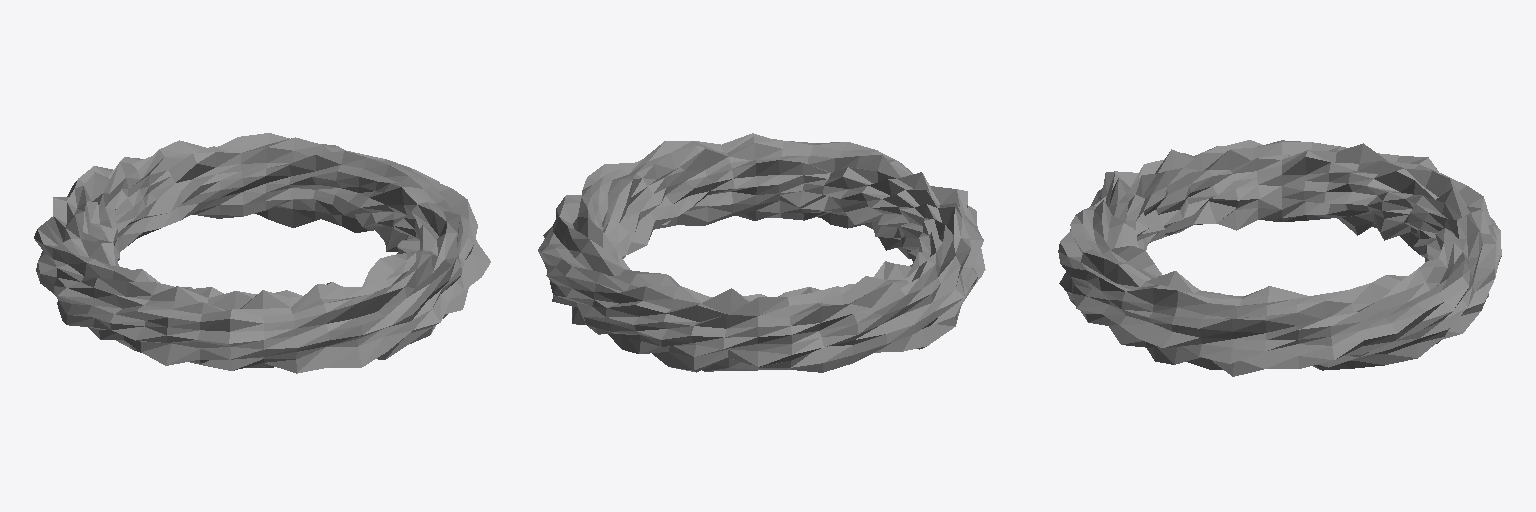
The model's file is Donut_Cloud.obj.
3 renders of one model, left to right at view 1: azimuth 30°, elevation 25°; view 2: azimuth 150°, elevation 25°; view 3: azimuth 270°, elevation 25°, orthographic.
Visible parts, largest first — view 1: donut_cloud; view 2: donut_cloud; view 3: donut_cloud.
Boxes of the visible parts, <box> form: donut_cloud: <box>34,133,490,373</box>; donut_cloud: <box>538,133,985,372</box>; donut_cloud: <box>1058,140,1501,376</box>.
Bounding box in the file's own units: 246 × 53.01 × 239.